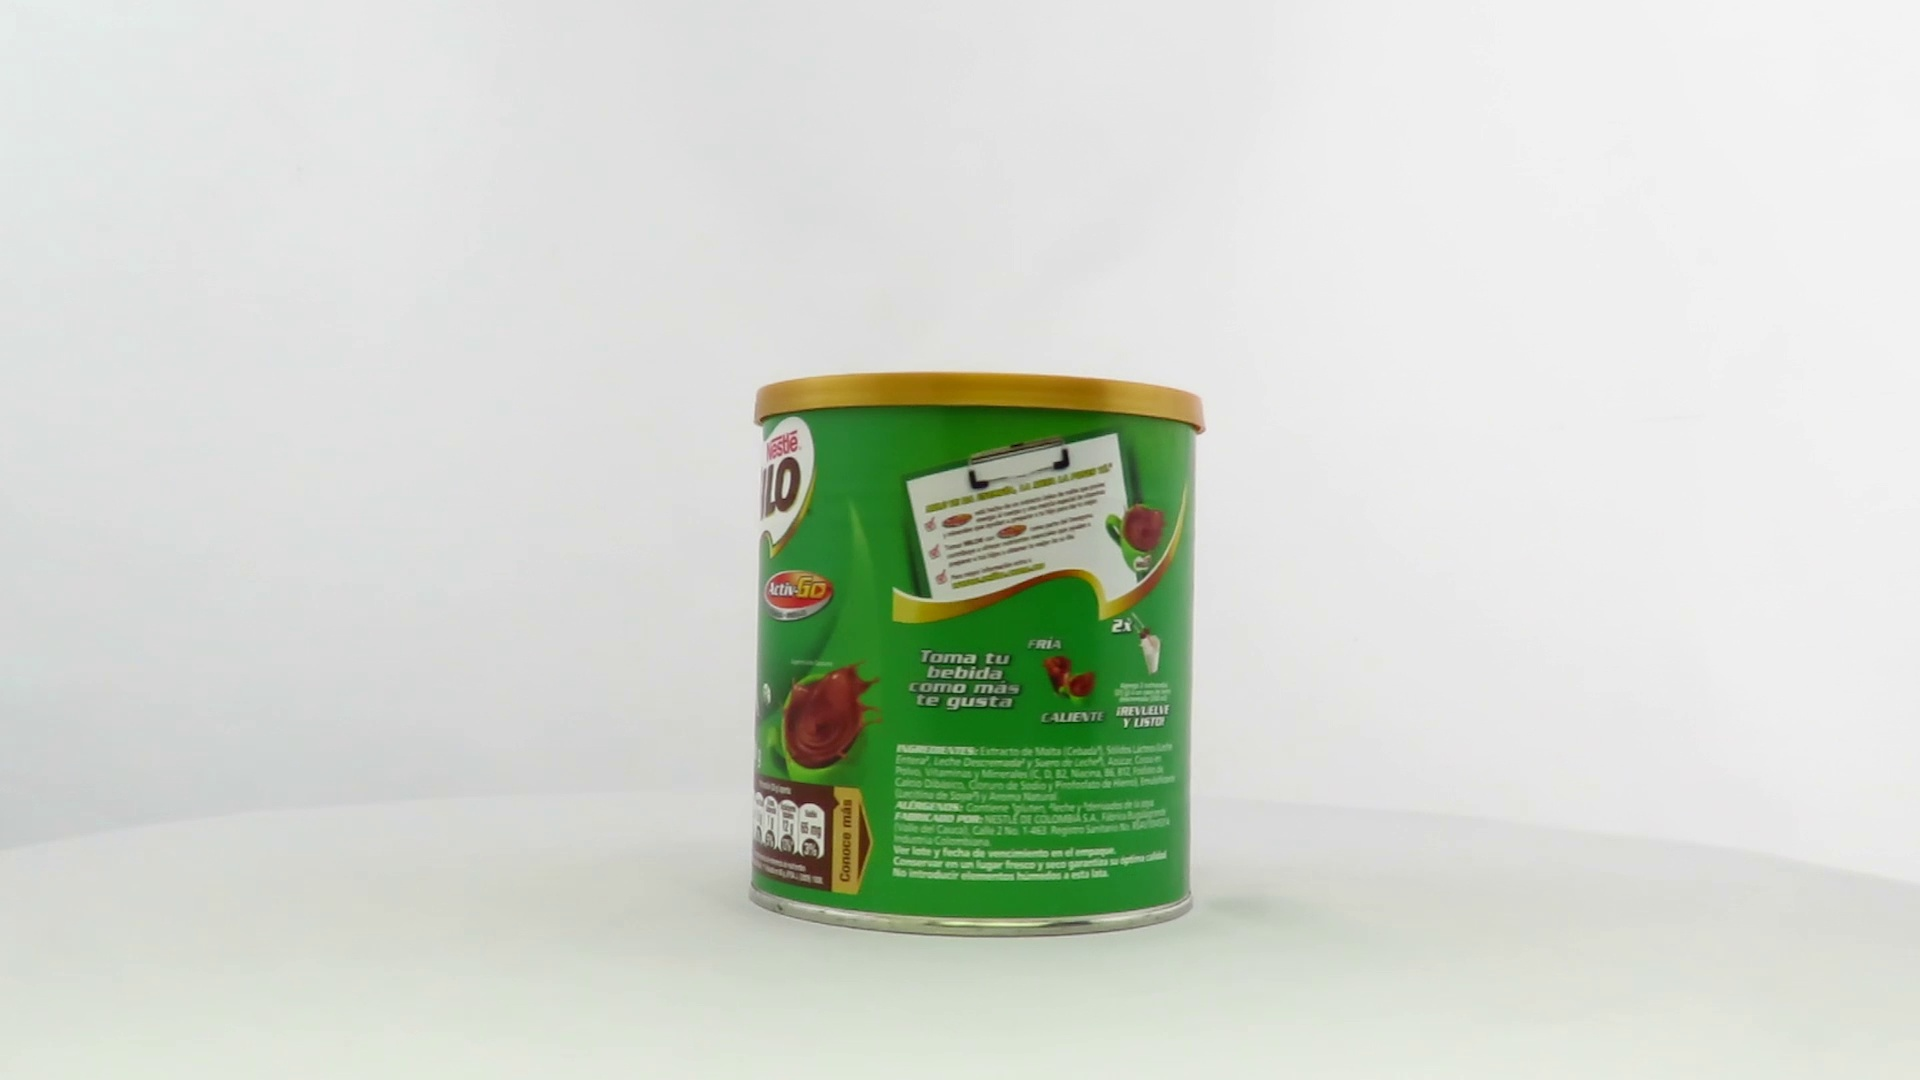COL0170203LAT40000: (742, 367, 1212, 944)
